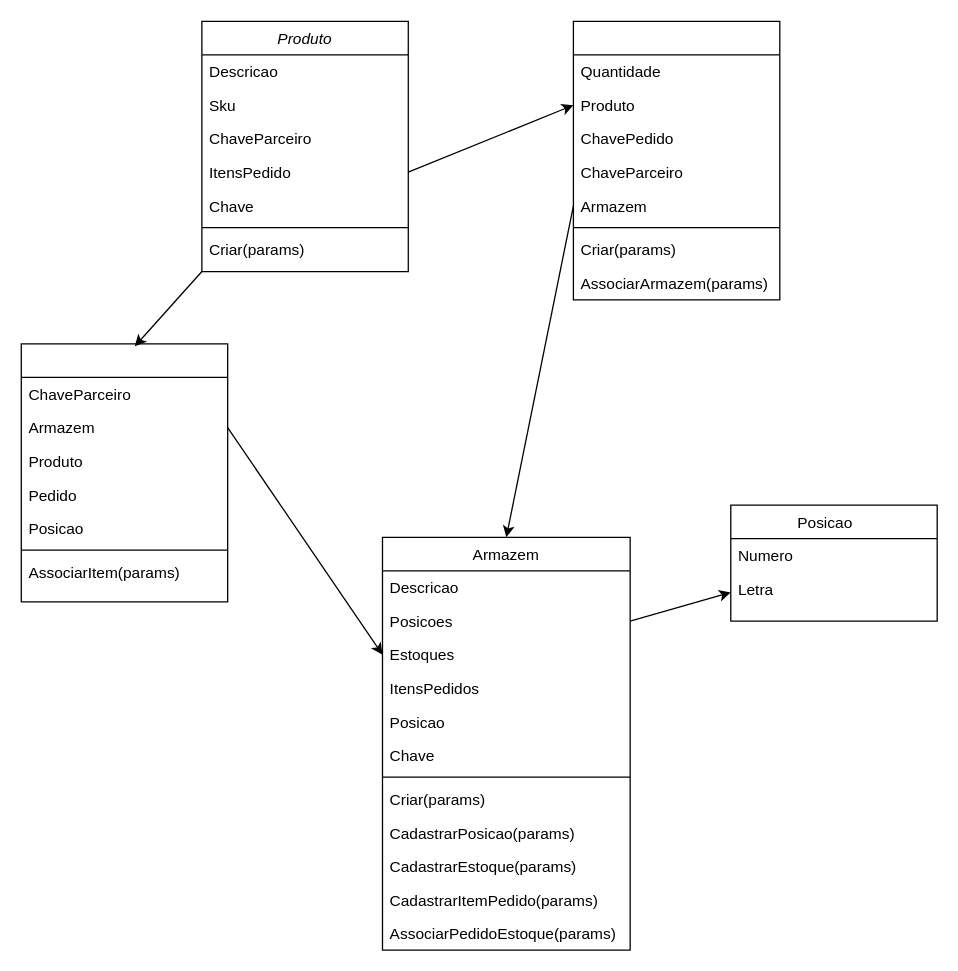
Image size: 958x971. Some labels were removed from this diagram. The shapes that lost their labels are listed below. From the top down, each one's box as (x1, y1, x2, y2) in pixels, then its label:
(572, 20, 780, 300): PedidoItem
(20, 342, 228, 602): Estoque
